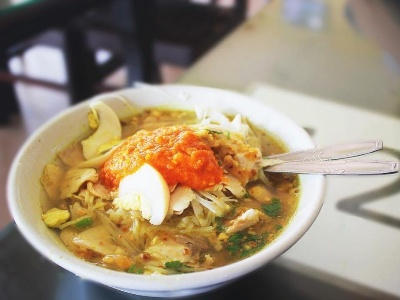soto: (54, 108, 285, 262)
